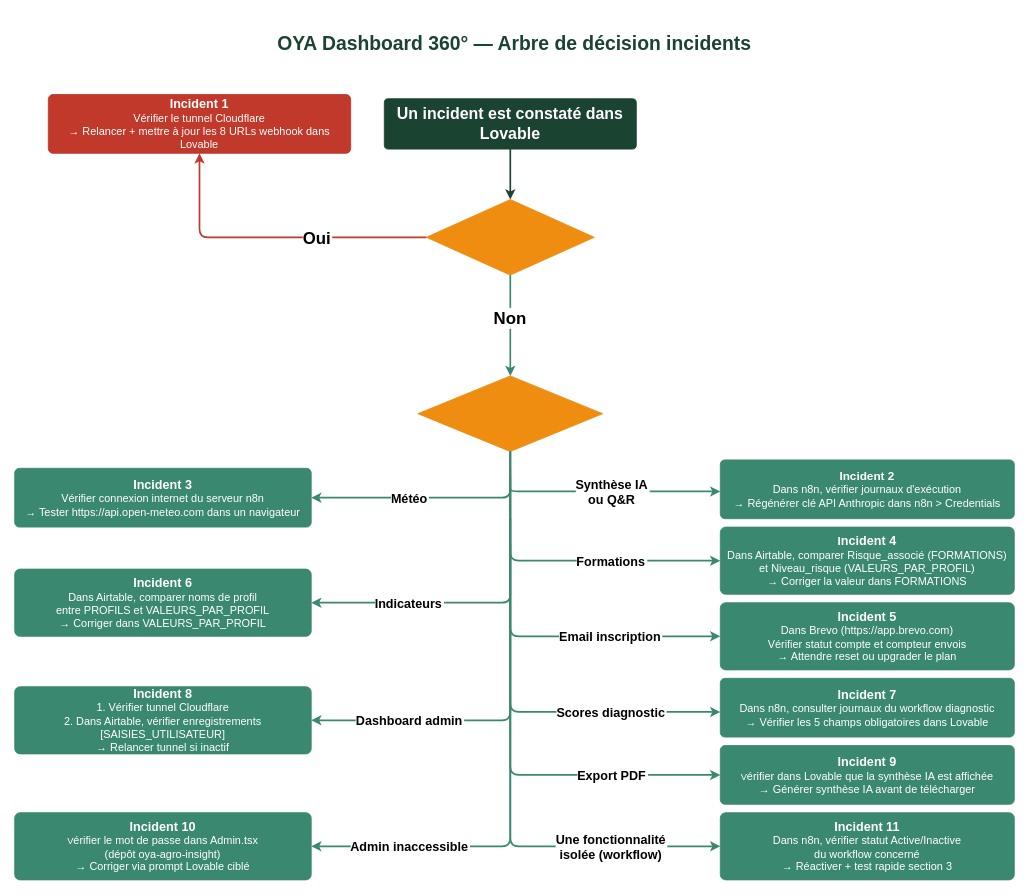
The diagram is 1029 pixels wide and 895 high, and some of its shapes have lost their labels. Here are the shapes that lost their labels. From the top down, the centre of each, then its label:
[509,237]: Plusieurs fonctionnalités affectées simultanément ?
[510,413]: Quelle fonctionnalité est affectée ?
